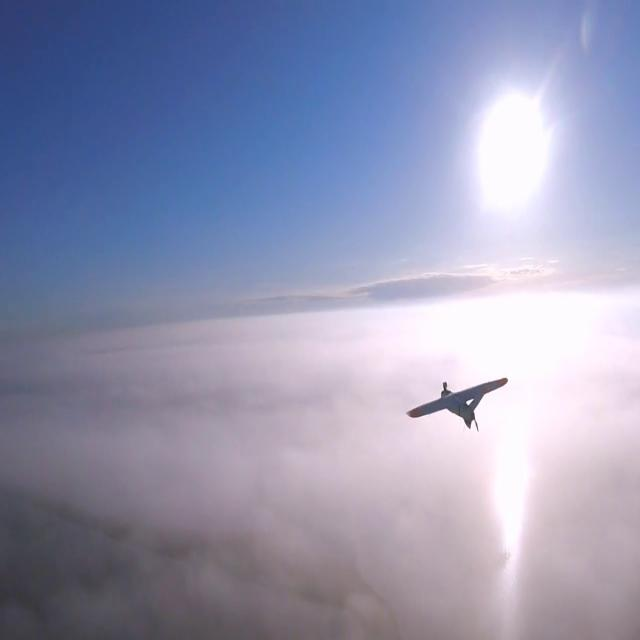iha: (434, 377, 470, 434)
